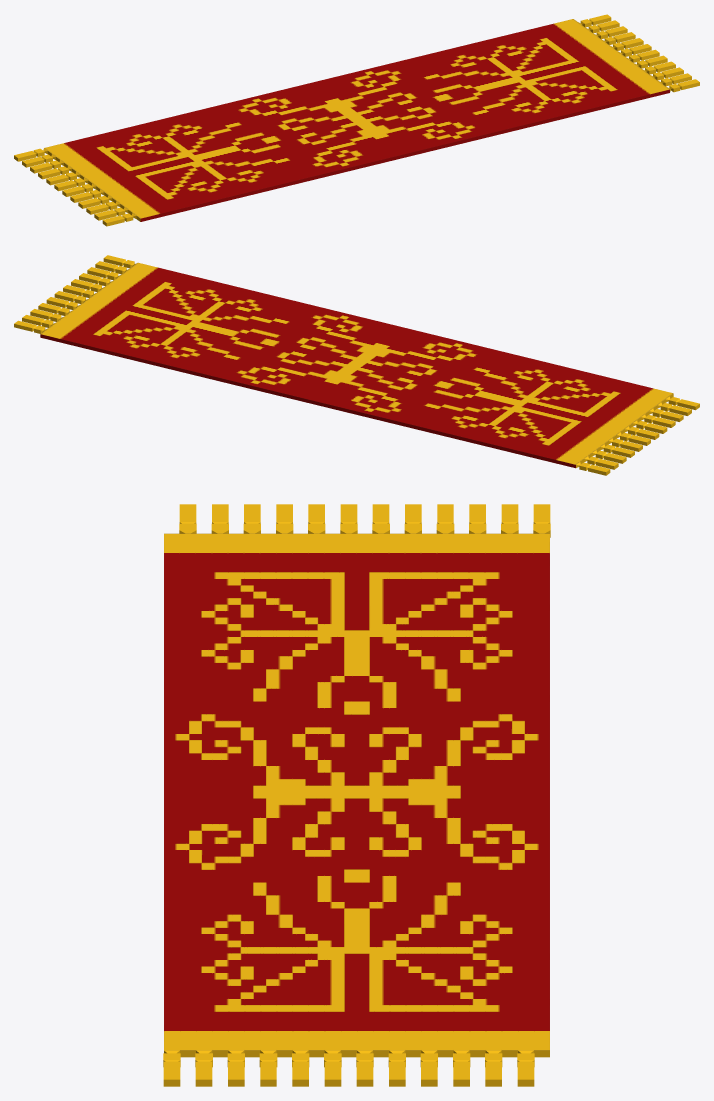
Rendered from Castle Rug.fbx.
3 renders of one model, top to bottom at view 1: azimuth 30°, elevation 25°; view 2: azimuth 150°, elevation 25°; view 3: azimuth 270°, elevation 25°, orthographic. The views are drawn at different scales.
Visible parts, largest first — view 1: Cube; view 2: Cube; view 3: Cube.
Boxes of the visible parts, bbox=[...] form: Cube: bbox=[14, 14, 699, 226]; Cube: bbox=[14, 255, 699, 475]; Cube: bbox=[163, 504, 550, 1086].
Size of the model in its own units: 1751 by 10.58 by 498.
